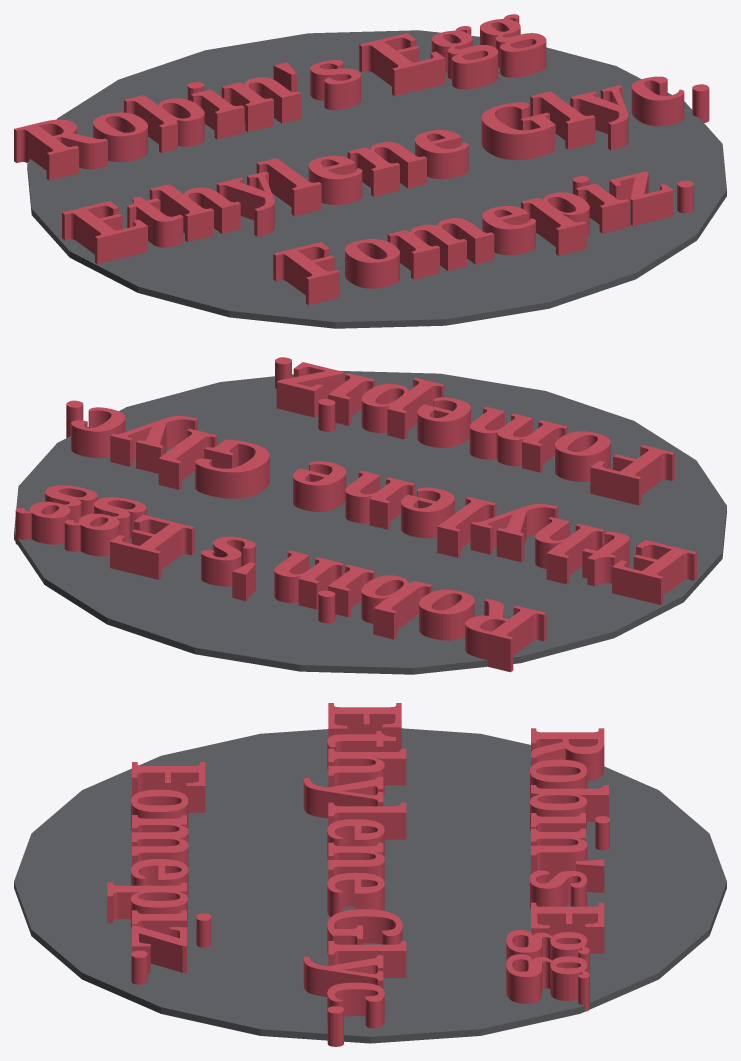
The model's file is miami.gltf.
3 renders of one model, top to bottom at view 1: azimuth 30°, elevation 25°; view 2: azimuth 150°, elevation 25°; view 3: azimuth 270°, elevation 25°, orthographic. The views are drawn at different scales.
Visible parts, largest first — view 1: Mesh_Mesh_head_geo001_lambert2SG001; view 2: Mesh_Mesh_head_geo001_lambert2SG001; view 3: Mesh_Mesh_head_geo001_lambert2SG001.
Part boxes in pixels (x1,y1,x2,y2): Mesh_Mesh_head_geo001_lambert2SG001: (14, 14, 726, 328); Mesh_Mesh_head_geo001_lambert2SG001: (14, 357, 726, 674); Mesh_Mesh_head_geo001_lambert2SG001: (14, 703, 726, 1046).
Bounding box in the file's own units: 201 × 10 × 193.
